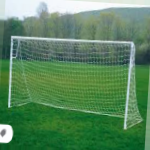goals: (6, 34, 145, 136)
